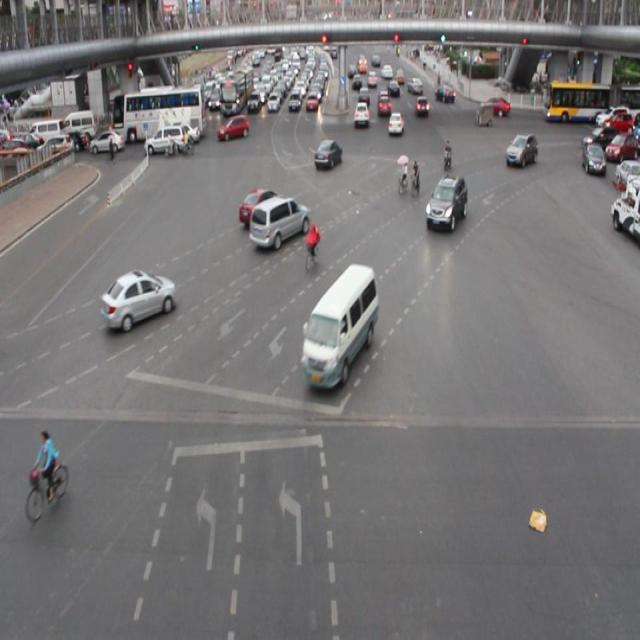car: (100, 266, 177, 334), (423, 173, 468, 232), (239, 184, 286, 230), (503, 133, 538, 168), (312, 137, 343, 171)
truck: (301, 262, 379, 396), (248, 194, 309, 244)
